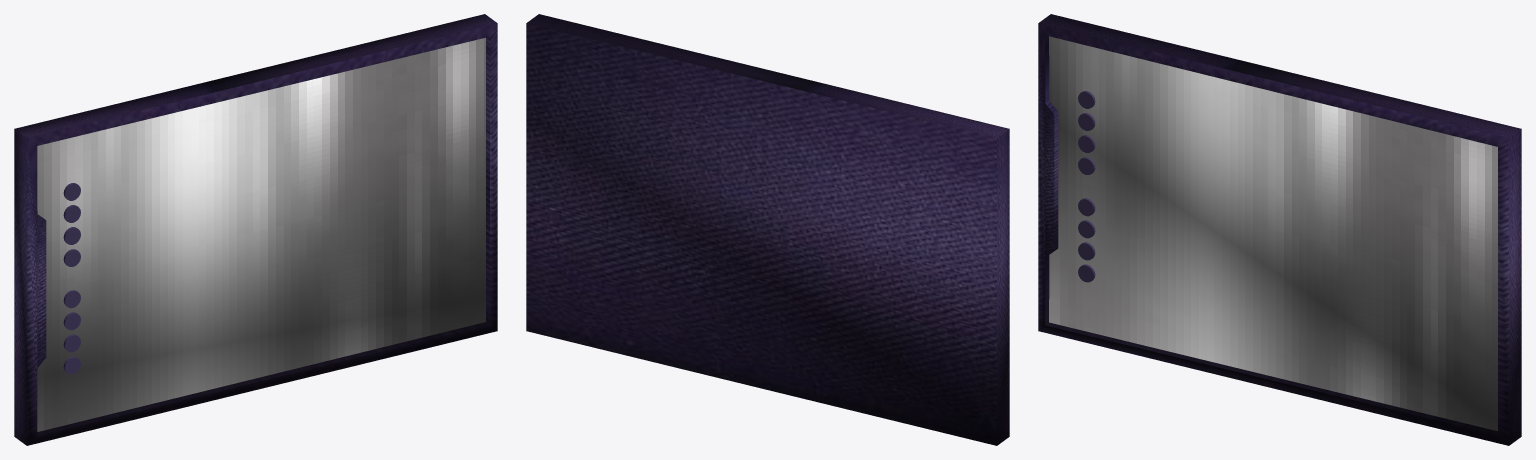
The model's file is Bedroom_tablet.glb.
The picture shows the model from 3 angles, left to right: view 1: azimuth 30°, elevation 25°; view 2: azimuth 150°, elevation 25°; view 3: azimuth 330°, elevation 25°; orthographic projection.
Parts seen in each view (by area): view 1: Cube.012, Cube.013; view 2: Cube.013; view 3: Cube.012, Cube.013.
Boxes of the visible parts, x1,y1,x2,y2 form: Cube.012: [37, 37, 485, 431]; Cube.013: [14, 14, 497, 445]; Cube.013: [526, 14, 1009, 445]; Cube.012: [1049, 36, 1497, 431]; Cube.013: [1038, 14, 1521, 445].
Size of the model in its own units: 0.8851 by 0.5531 by 0.047.
Materials: 2 (2 with a texture image).
